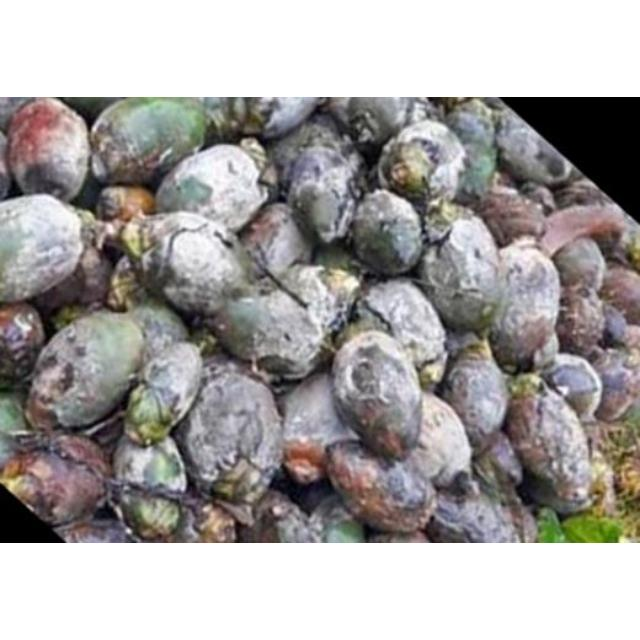damaged: (172, 360, 286, 506), (28, 312, 144, 431), (504, 377, 596, 515), (331, 332, 423, 461), (215, 280, 333, 378), (322, 438, 440, 536), (140, 213, 248, 317), (1, 432, 114, 528), (415, 216, 505, 336), (89, 97, 209, 187), (154, 143, 270, 234), (484, 241, 562, 369), (349, 278, 449, 374), (120, 338, 204, 447), (278, 371, 358, 485), (283, 144, 365, 248), (376, 120, 470, 210), (438, 342, 512, 452), (426, 468, 530, 544), (348, 189, 427, 277), (406, 393, 472, 489), (266, 115, 350, 187), (110, 431, 192, 502), (244, 203, 314, 281), (338, 97, 427, 153), (112, 481, 192, 541), (584, 340, 640, 422), (539, 352, 603, 422), (126, 296, 194, 359), (474, 190, 548, 247), (293, 493, 367, 543), (197, 97, 277, 143), (0, 304, 46, 382), (190, 358, 258, 408), (550, 236, 606, 294), (554, 294, 606, 356), (112, 212, 160, 266), (150, 97, 214, 137), (598, 269, 640, 329), (96, 184, 158, 224), (0, 392, 32, 468), (2, 466, 48, 516), (24, 386, 64, 438), (106, 258, 142, 312), (66, 165, 105, 213), (56, 97, 132, 121), (82, 212, 120, 258), (304, 112, 351, 148), (1, 98, 44, 134), (49, 298, 97, 330), (560, 178, 608, 210), (514, 181, 558, 215), (614, 447, 640, 501), (616, 218, 640, 272), (430, 98, 486, 119), (196, 351, 238, 379), (0, 126, 14, 200), (612, 508, 640, 542), (484, 181, 524, 201), (89, 151, 111, 185), (477, 98, 513, 114), (492, 169, 518, 189)
